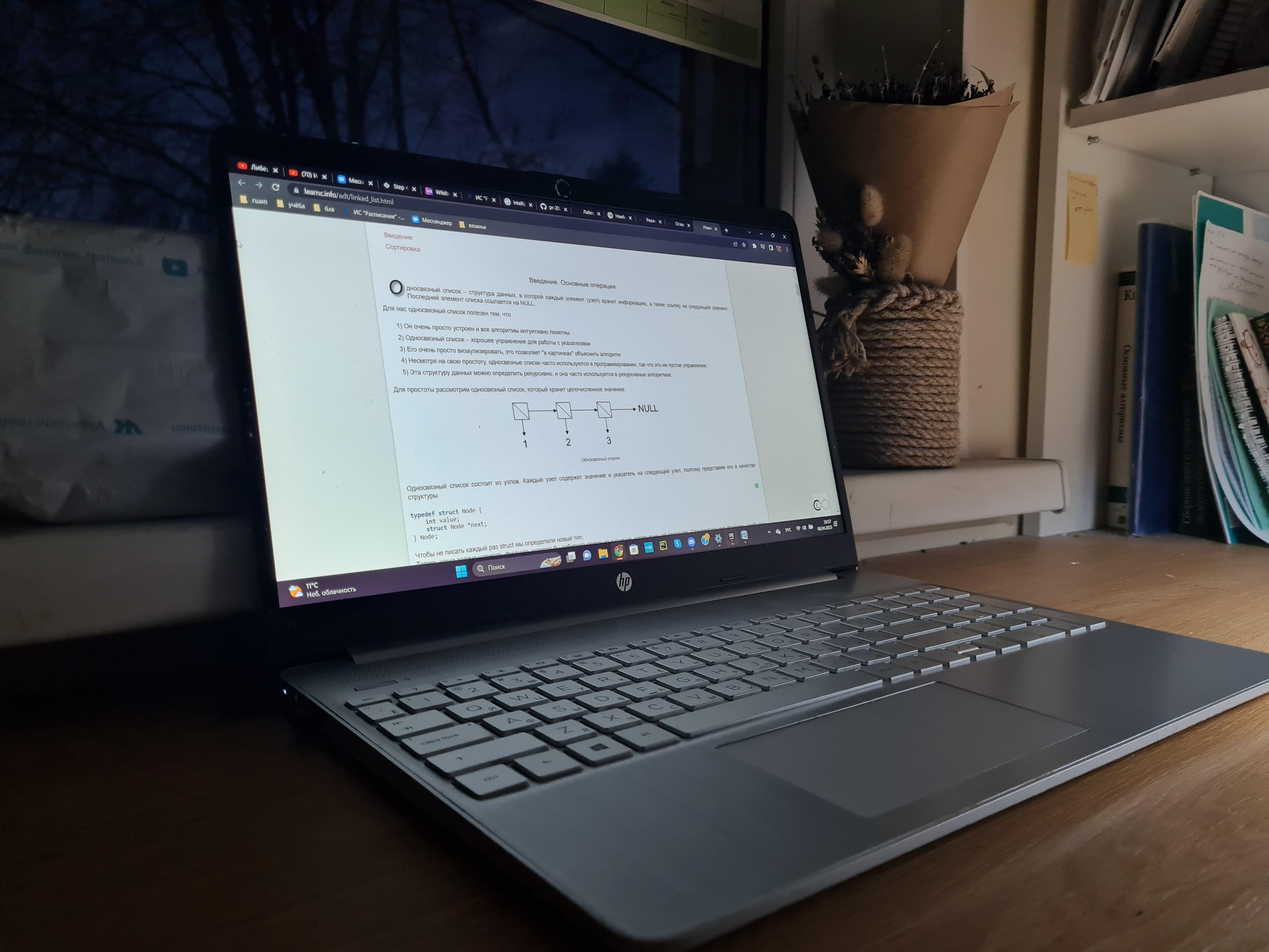monitor: (205, 134, 859, 652)
